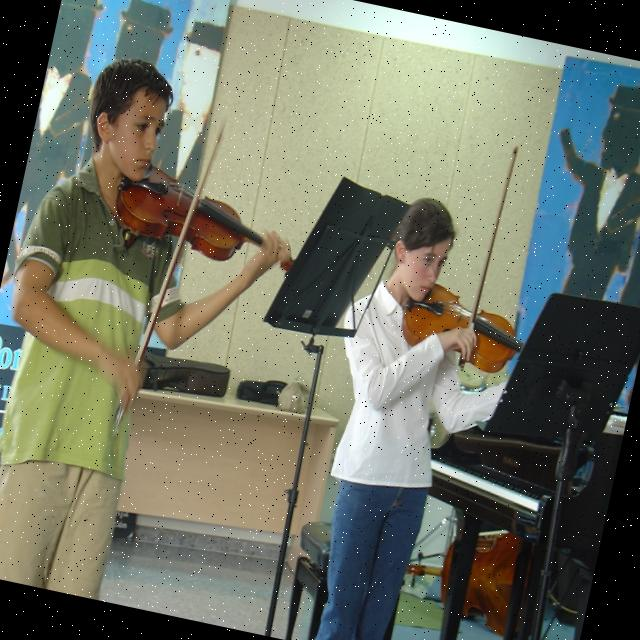cello: (392, 507, 569, 640)
violin: (105, 154, 310, 279), (392, 277, 535, 376)
